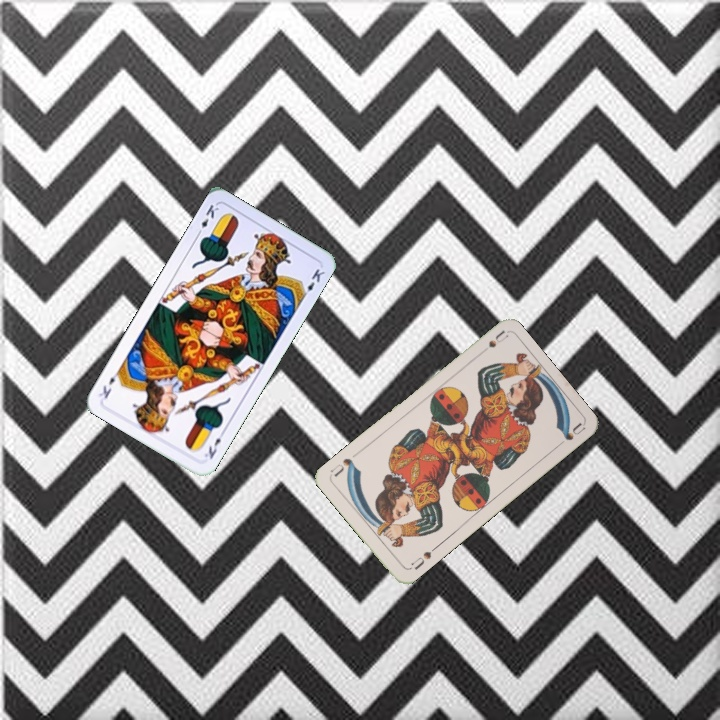EK: (193, 200, 221, 238), (200, 426, 228, 462)
SU: (407, 542, 439, 572), (484, 327, 510, 350)
